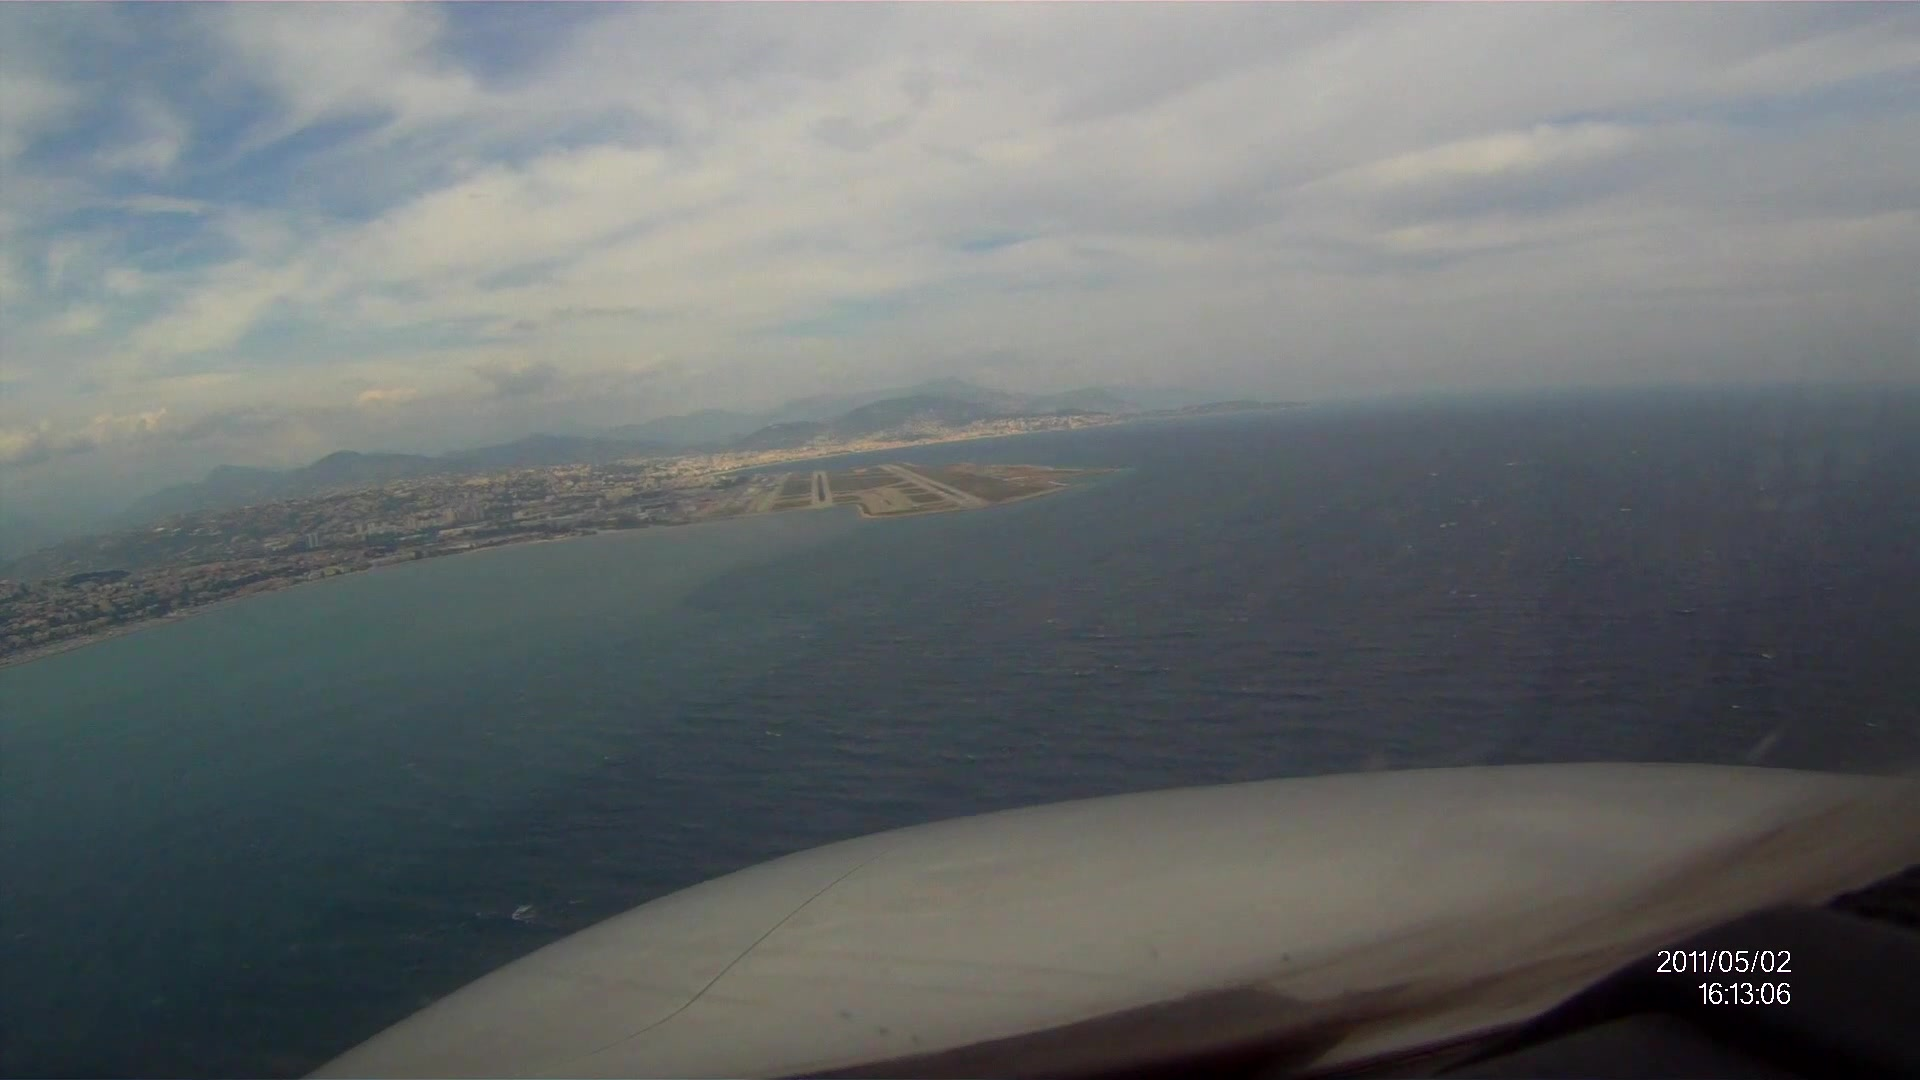runway: (880, 463, 993, 509), (808, 469, 833, 512)
